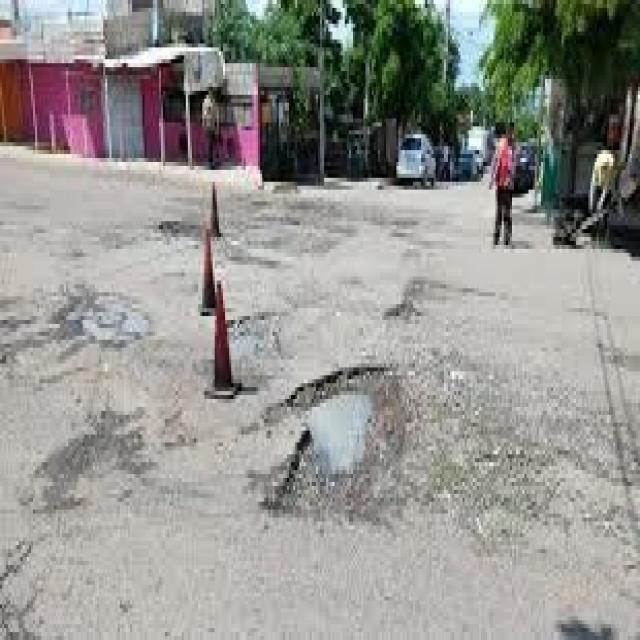Pothole: (16, 186, 219, 541), (272, 308, 413, 593)
